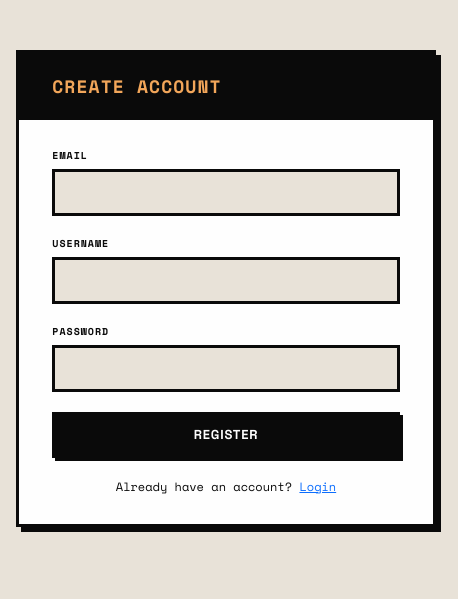
Scenario: Register page › clears a previous error before a new submission
The image size is (458, 599).
Type "a@a.com" into the field labelled "Email".
click(226, 193); type("a@a.com")  # box [52,169,400,216]
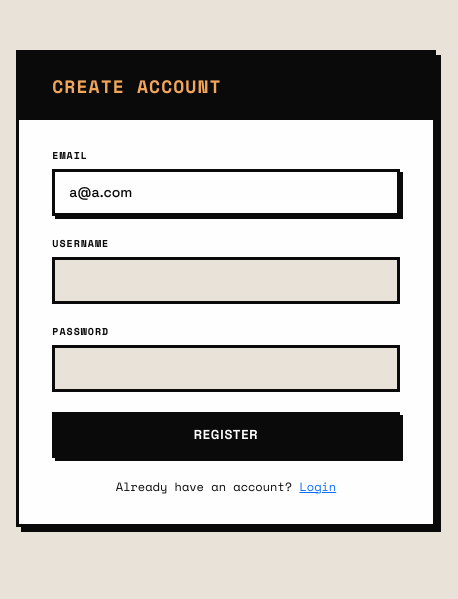
Type "auser" into the field labelled "Username".
click(226, 281); type("auser")  # box [52,257,400,304]
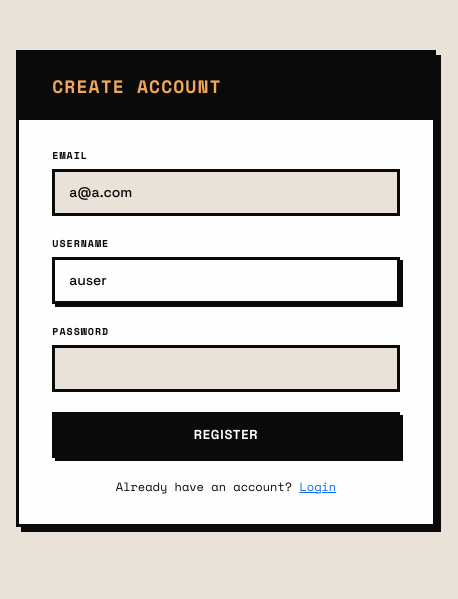
Type "pass" into the password field labelled "Password".
click(226, 369); type("pass")  # box [52,345,400,392]
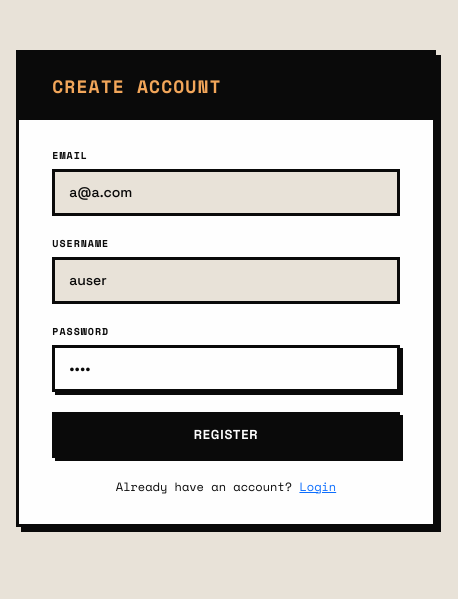
Click the button "Register".
click(226, 435)  # box [52,412,400,458]
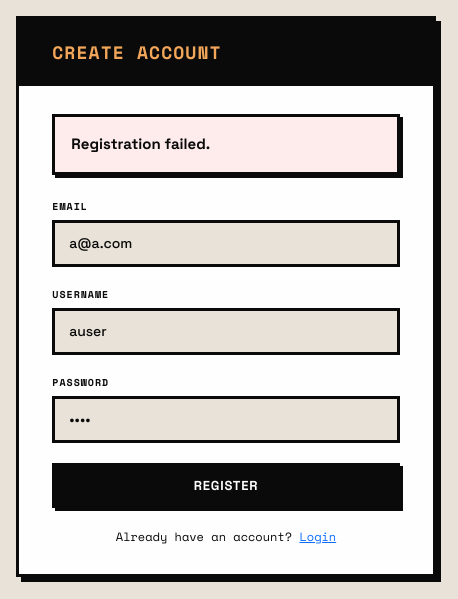
Check: the text "Registration failed." is shown, box [52,114,400,174]
Click the button "Register".
click(226, 485)  # box [52,462,400,508]
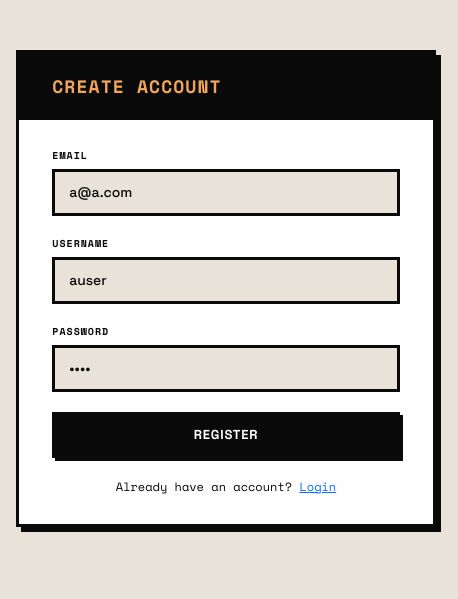
Check: the text "Registration failed." is gone
